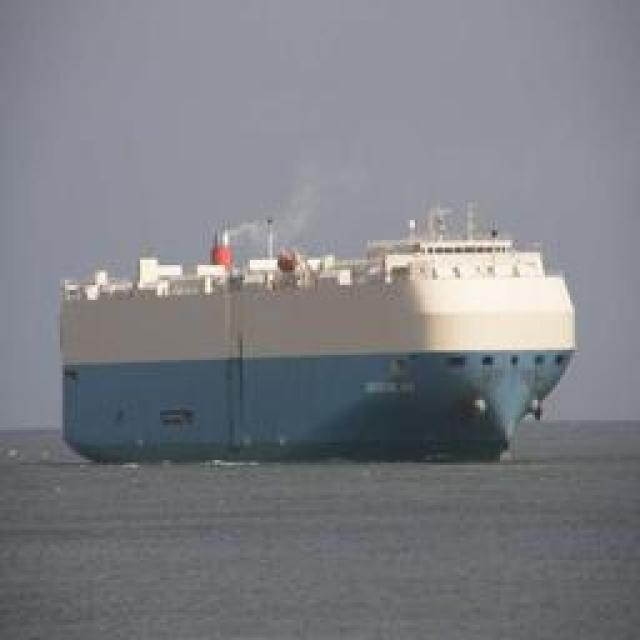ship2: (59, 201, 576, 466)
